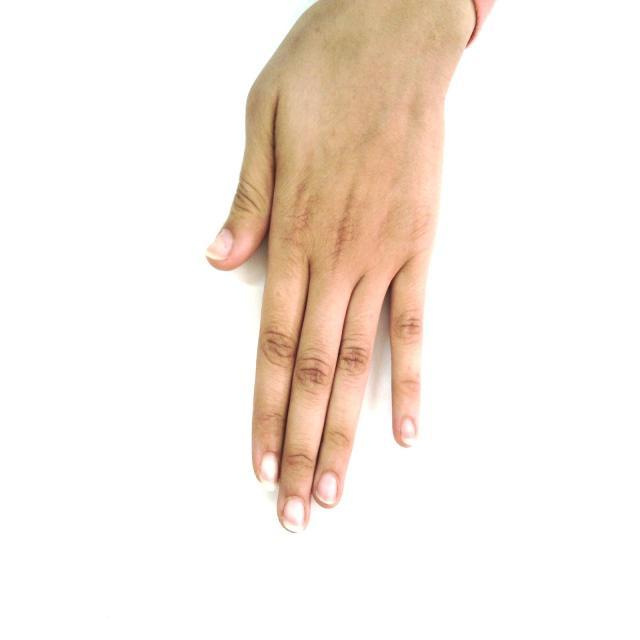Fingernail: (206, 229, 233, 260), (282, 497, 305, 532), (317, 472, 337, 504), (261, 454, 277, 485), (402, 418, 417, 446)
